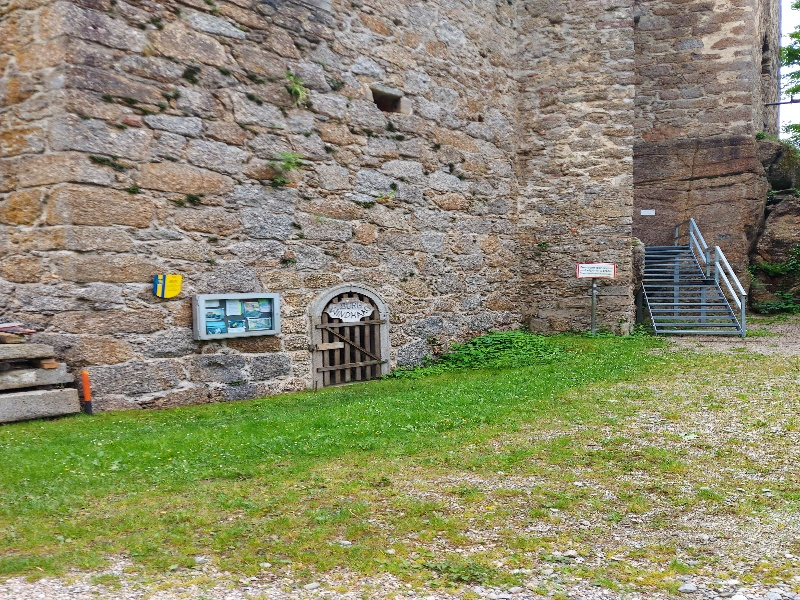dungeon: (294, 278, 402, 395)
